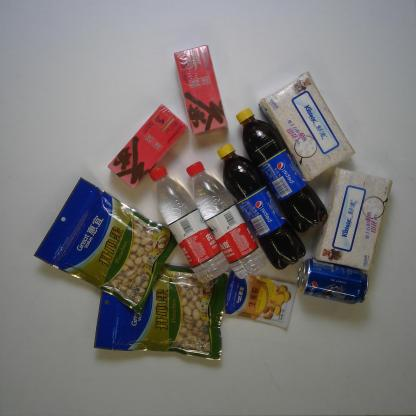Dried Fruit: (28, 175, 182, 317), (90, 265, 229, 361)
Drink: (214, 141, 307, 271), (236, 107, 330, 233), (180, 159, 268, 282), (145, 162, 232, 284), (292, 256, 374, 306)
Instant Drink: (101, 101, 189, 190), (173, 41, 231, 137)
Seasoner: (222, 268, 298, 332)
Tissue: (256, 70, 359, 186), (310, 161, 394, 273)
